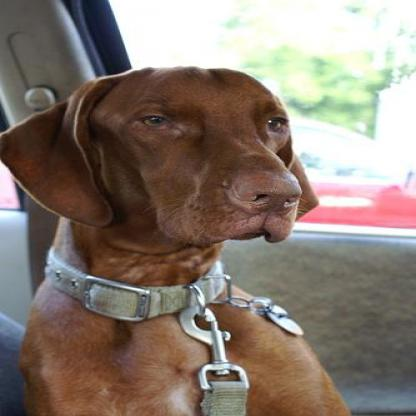vizsla: (0, 62, 355, 414)
